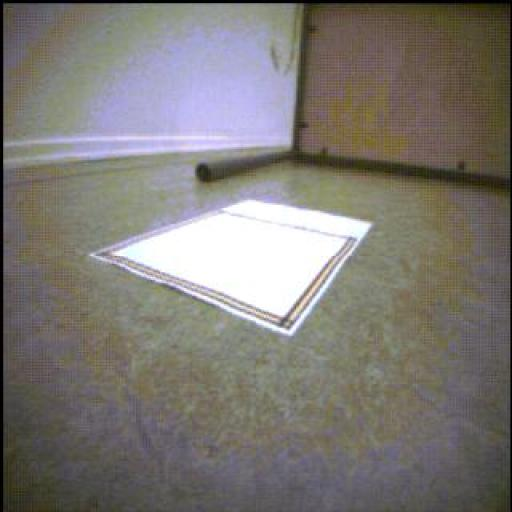Pad: (92, 201, 372, 337)
